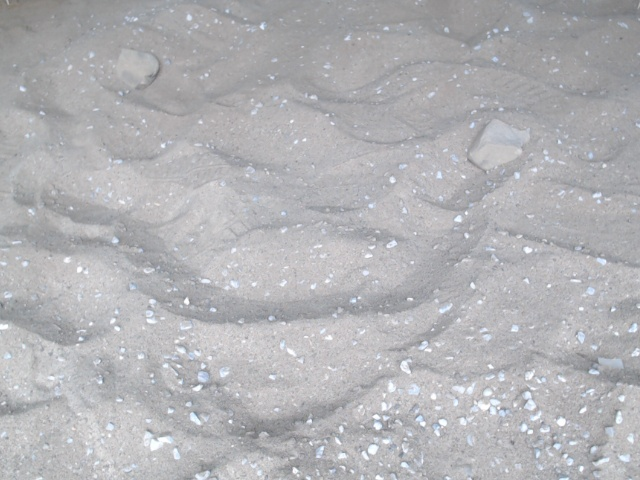rock: (462, 113, 537, 175), (110, 42, 166, 96)
